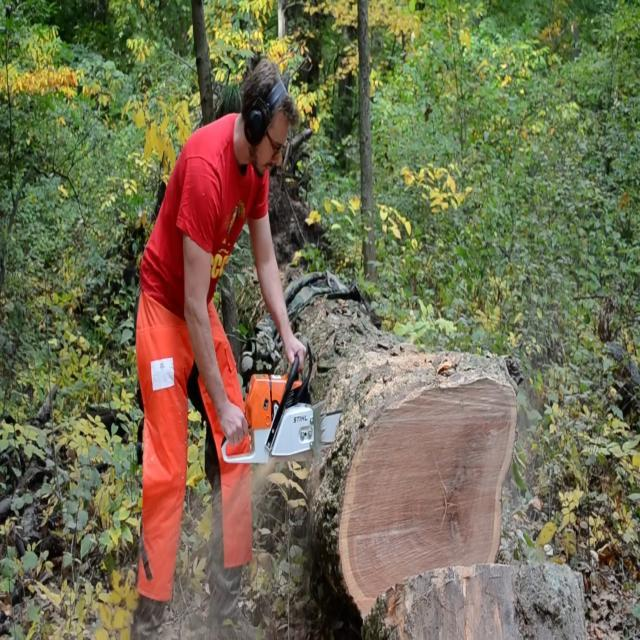Chainsaw: (213, 344, 367, 472)
